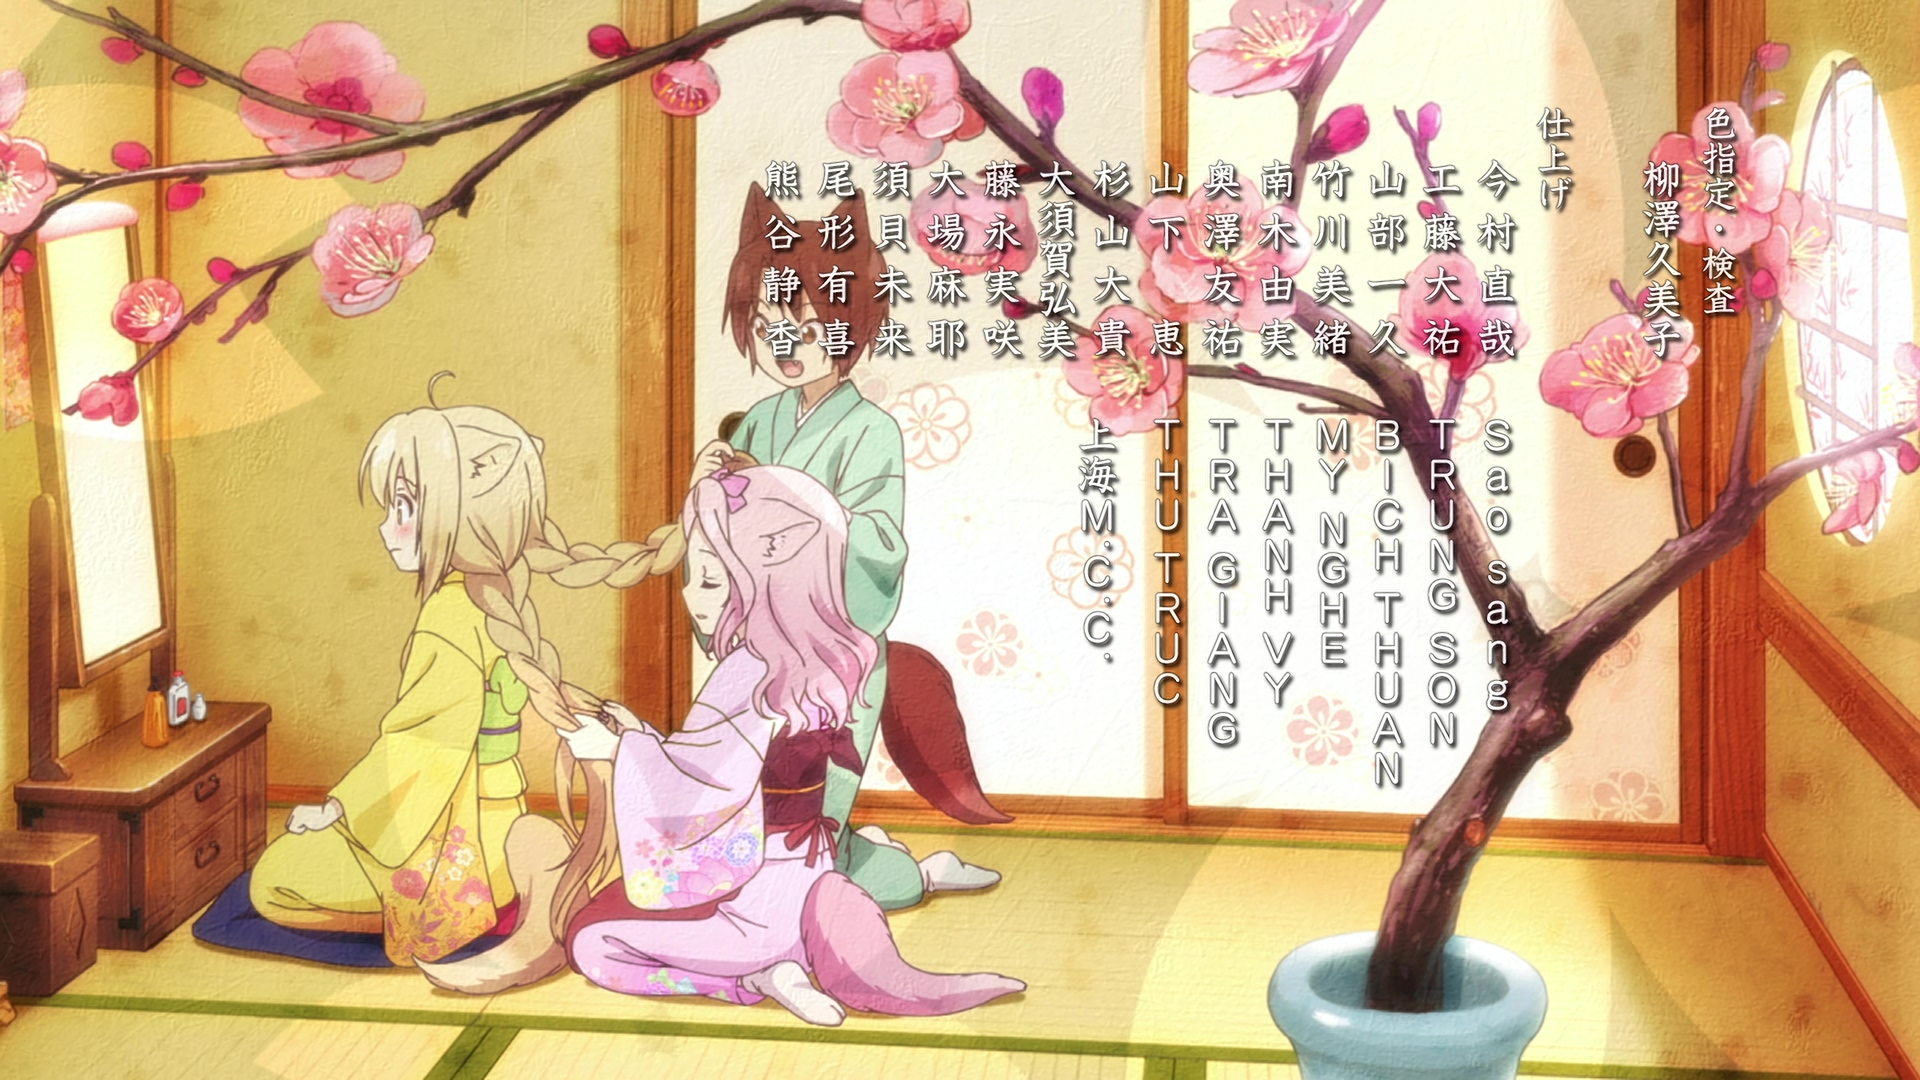枣: (684, 179, 1015, 919)
柚: (251, 372, 684, 1002)
莲: (553, 463, 1033, 1030)
